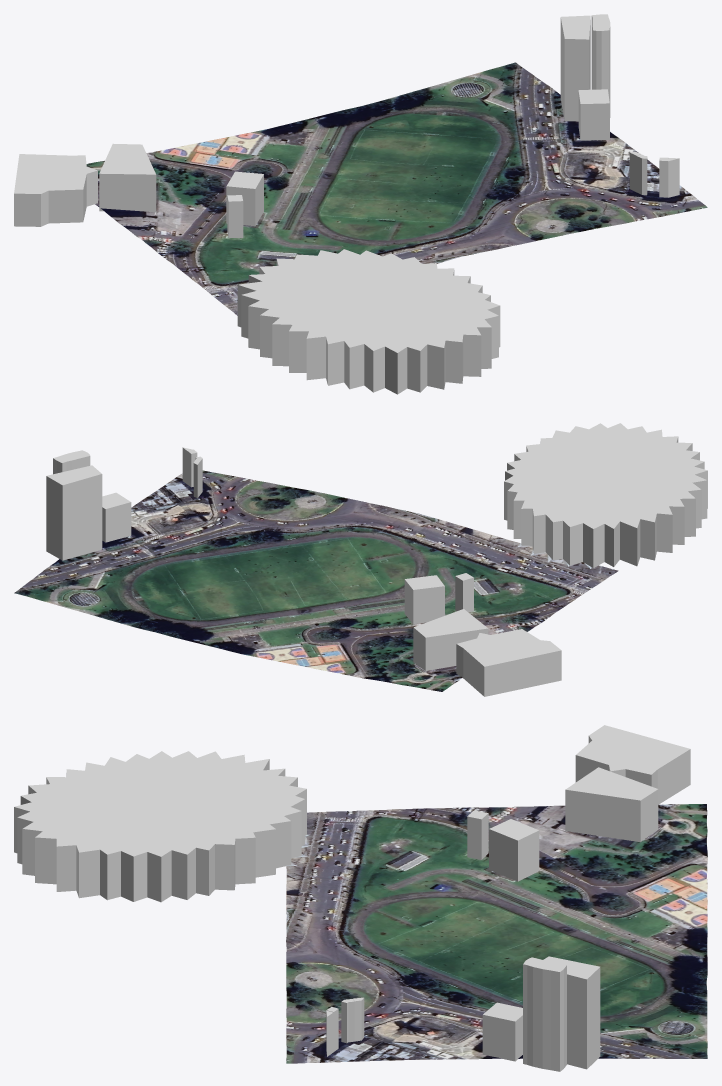
3 renders of one model, top to bottom at view 1: azimuth 30°, elevation 25°; view 2: azimuth 150°, elevation 25°; view 3: azimuth 270°, elevation 25°, orthographic. The views are drawn at different scales.
Parts seen in each view (by area): view 1: EXPORT_GOOGLE_SAT_WM; view 2: EXPORT_GOOGLE_SAT_WM; view 3: EXPORT_GOOGLE_SAT_WM.
Part boxes in pixels (bbox=[...]): EXPORT_GOOGLE_SAT_WM: bbox=[14, 14, 707, 394]; EXPORT_GOOGLE_SAT_WM: bbox=[14, 423, 707, 696]; EXPORT_GOOGLE_SAT_WM: bbox=[14, 725, 707, 1071].
Size of the model in its own units: 330 by 315 by 53.53.
1 material, 1 textured.
